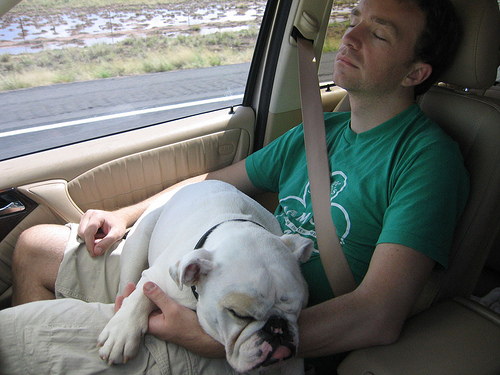without_mask: (332, 1, 434, 112)
